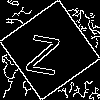Z: (25, 25, 63, 76)
